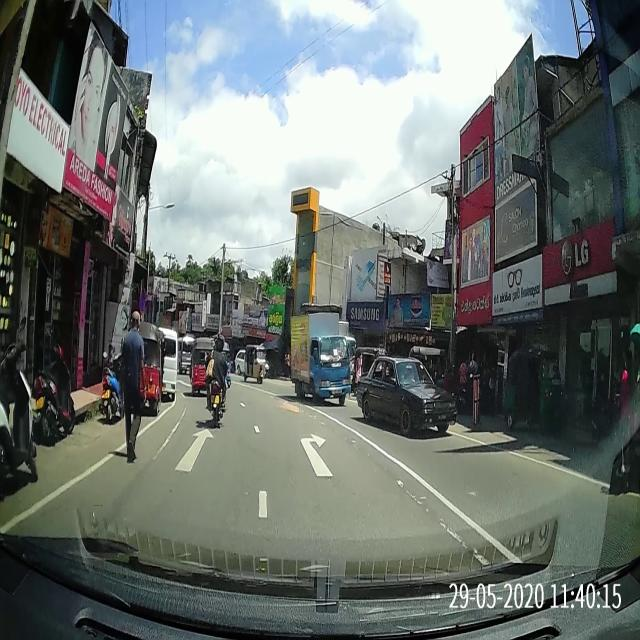Strelka vpered: (172, 428, 215, 473)
Strelka vpravo: (300, 432, 335, 477)
